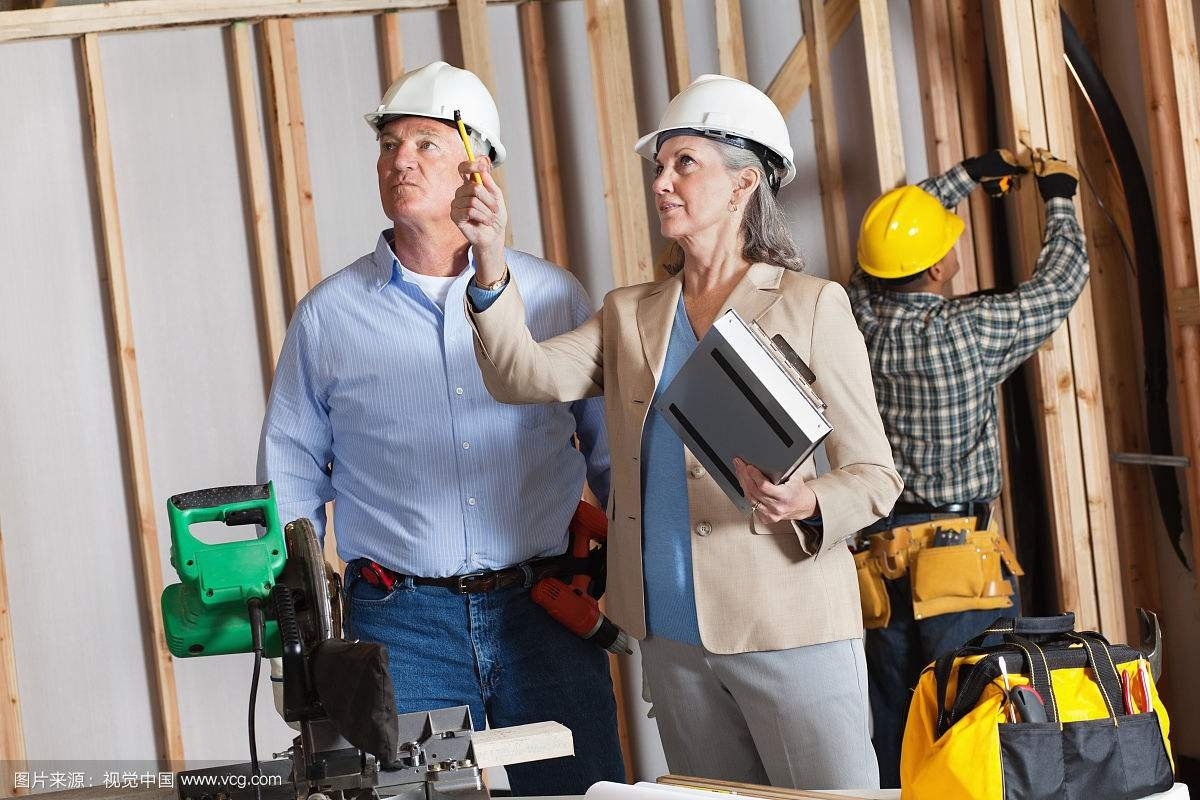white: (642, 75, 800, 256), (361, 54, 512, 231)
yellow: (857, 185, 966, 297)
